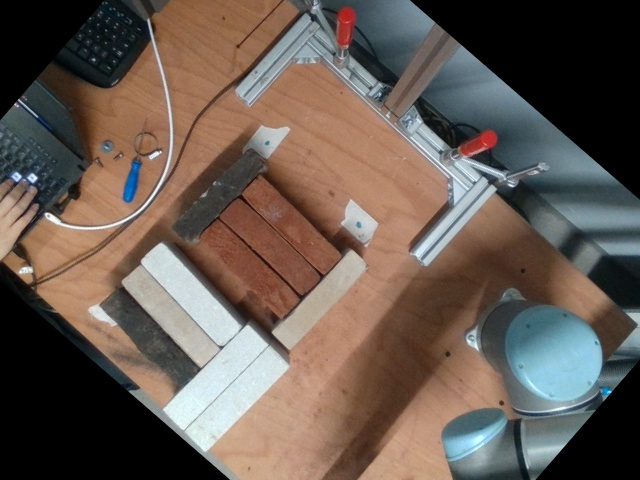brick-side: (183, 345, 292, 455), (161, 323, 270, 433), (139, 242, 241, 348), (119, 264, 221, 370), (98, 284, 200, 390), (240, 176, 342, 275), (218, 198, 320, 297), (198, 219, 300, 318), (168, 148, 267, 246), (272, 250, 369, 350)
